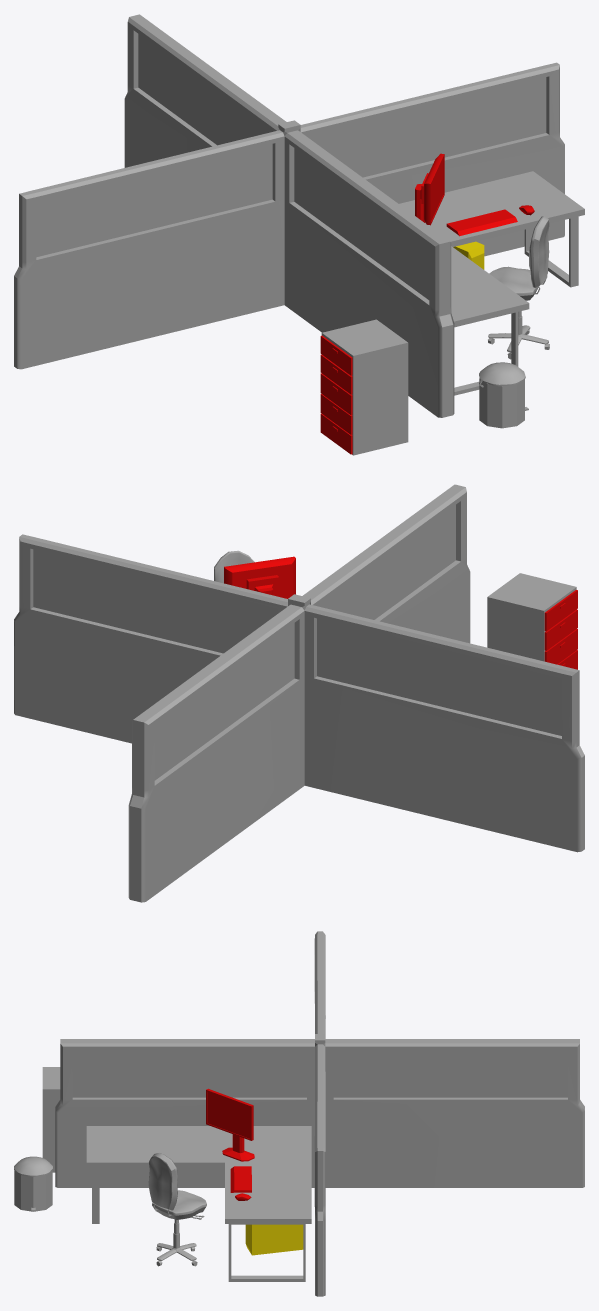
File: assets.fbx
The picture shows the model from 3 angles, top to bottom: view 1: azimuth 30°, elevation 25°; view 2: azimuth 150°, elevation 25°; view 3: azimuth 270°, elevation 25°; orthographic projection. The views are drawn at different scales.
Visible parts, largest first — view 1: cubicle, table, draw_chest, chair, bin, monitor, keyboard, lid, draw_03, draw_05, draw_04, draw_01 (+1 smaller); view 2: cubicle, draw_chest, monitor, draw_01, draw_02, draw_03, chair; view 3: cubicle, table, chair, monitor, computer, draw_chest, bin, lid, keyboard.
Boxes of the visible parts, x1,y1,x2,y2 form: cubicle: (14,14,564,417); table: (399,171,584,395); draw_chest: (321,319,408,455); chair: (488,216,549,359); bin: (479,377,528,428); monitor: (415,153,444,225); keyboard: (446,209,517,236); lid: (479,362,525,386); draw_03: (320,373,352,414); draw_05: (320,413,352,454); draw_04: (320,394,352,434); draw_01: (320,335,352,375); cubicle: (14,484,584,902); draw_chest: (487,573,576,661); monitor: (224,556,295,598); draw_01: (544,590,577,631); draw_02: (544,609,577,650); draw_03: (544,629,577,664); chair: (214,550,254,583); cubicle: (55,931,584,1296); table: (86,1126,311,1281); chair: (148,1153,206,1266); monitor: (206,1088,254,1161); computer: (245,1224,303,1255); draw_chest: (42,1067,60,1172); bin: (14,1170,52,1211); lid: (14,1156,52,1176); keyboard: (230,1166,251,1192).
Bounding box in the file's own units: 10 × 3.39 × 10.78.
